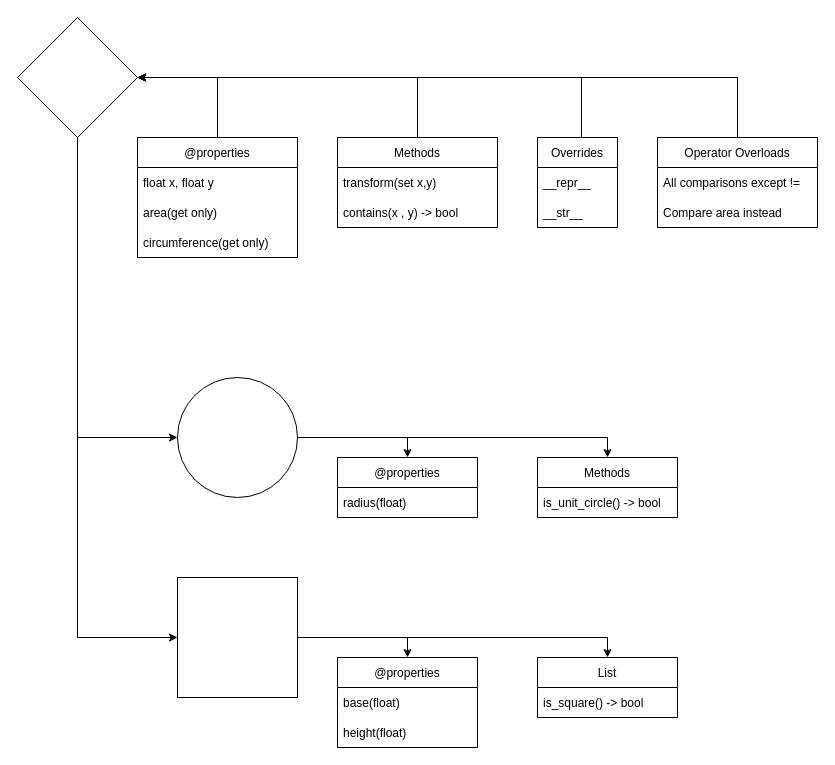
Image size: 835x765. Some labels were removed from this diagram. The shapes that lost their labels are listed below. From the top down, each one's centre as x and y in pixels, then its label:
At (77,77): "ABC Polygon".
At (237,437): "Circle(Polygon)".
At (237,637): "Rectangle(Polygon)".
